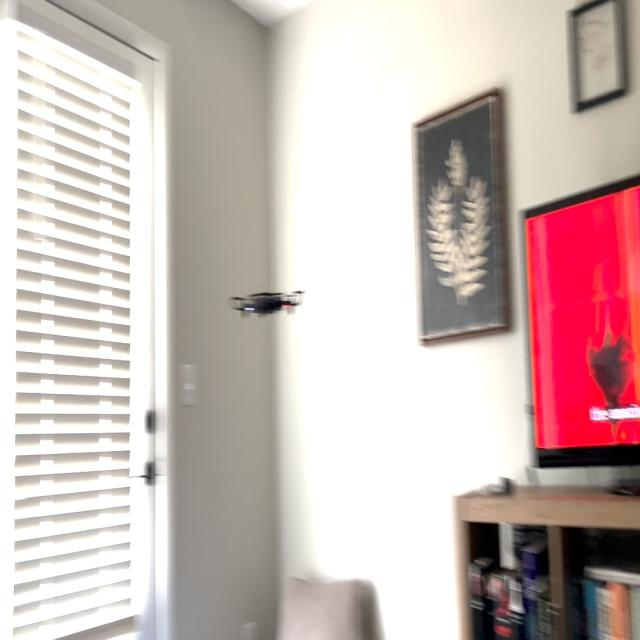drone: (220, 256, 313, 334)
